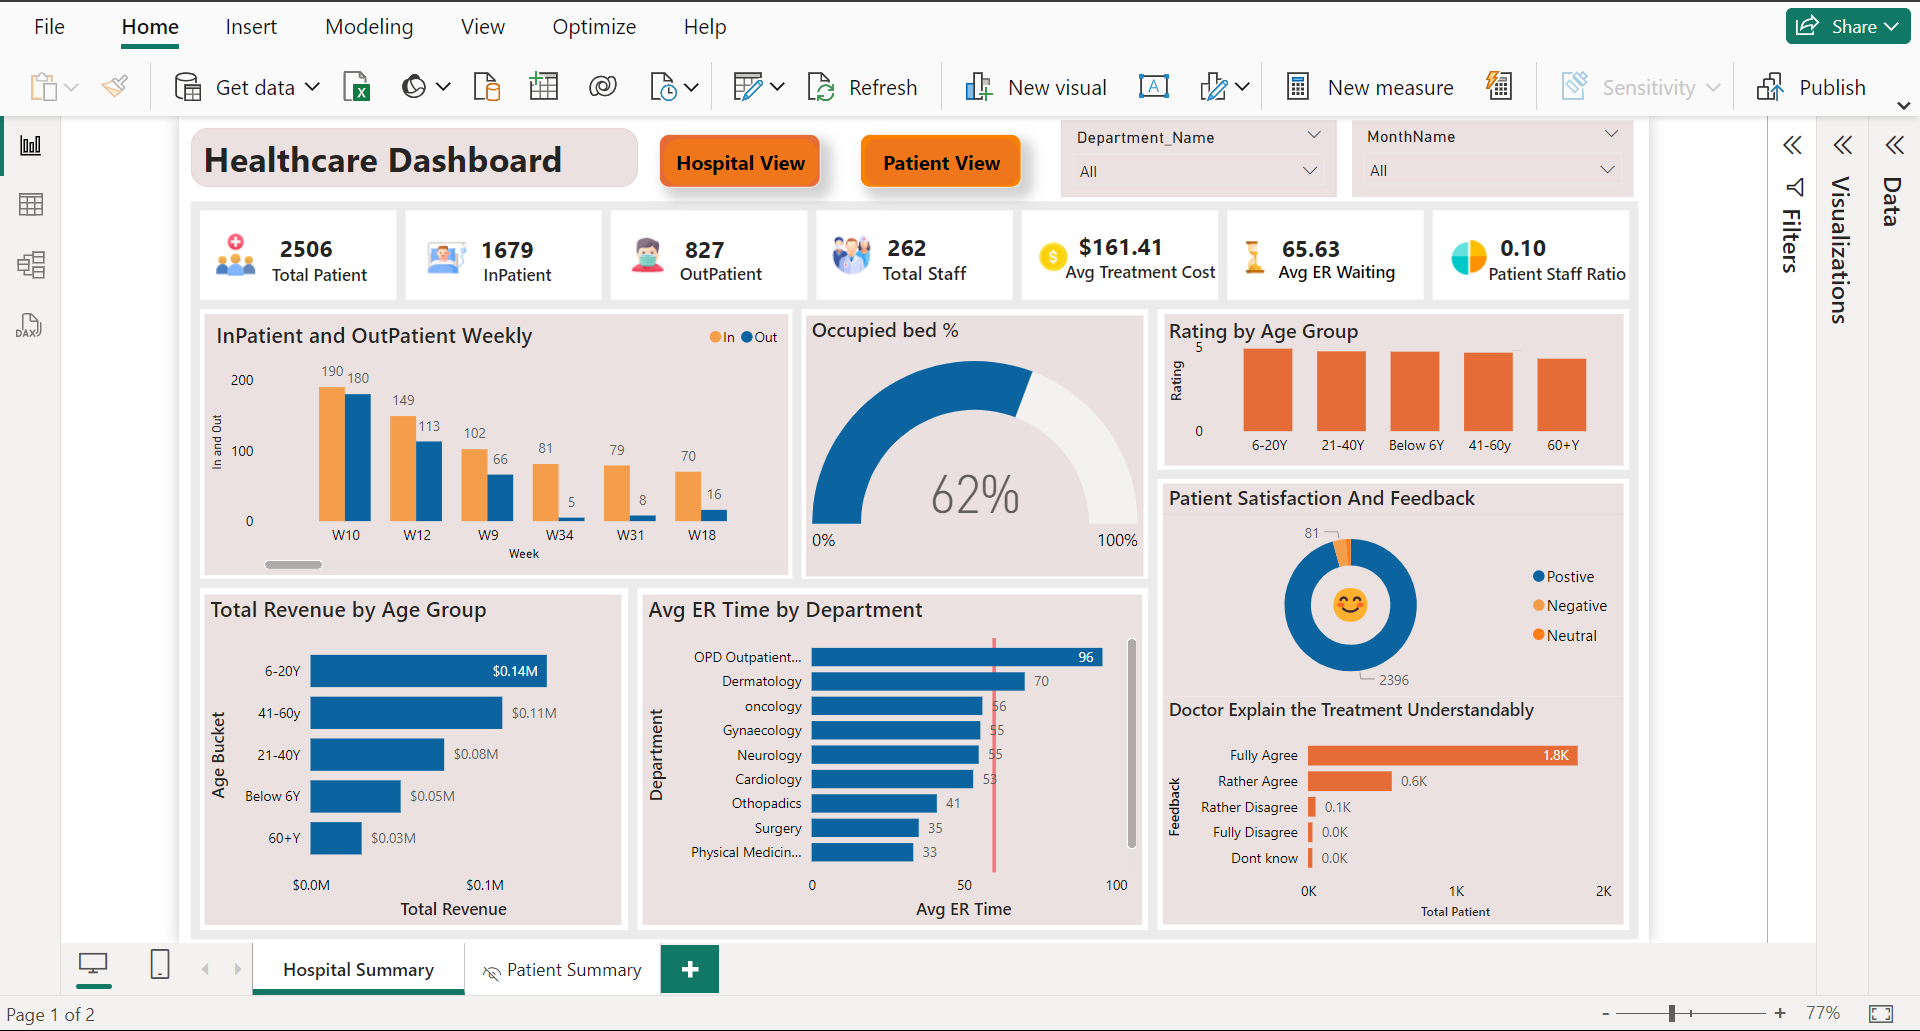

Layout of this report page (visuals, bound fields, positions):
{"tool":"powerbi","page":{"name":"Hospital Summary","canvas":[1280,720],"ordinal":0},"visuals":[{"type":"card","fields":{"Values":["Measure.Total Patient"]},"box":[68.1,98.4,84.8,36.3],"z":0},{"type":"card","fields":{"Values":["Measure.In Patient"]},"box":[247.2,100.3,76.9,34.3],"z":1000},{"type":"card","fields":{"Values":["Measure.Outpatient"]},"box":[427.1,98.9,60.4,35.7],"z":2000},{"type":"clusteredColumnChart","fields":{"Y":["Calendar_date.In Patient","Calendar_date.Outpatient"],"Category":["Calendar_date.WeekName"]},"box":[22.7,172.6,508.8,227.1],"z":3000},{"type":"clusteredBarChart","title":"Total Revenue by Age Group","fields":{"Y":["Measure.Total Revenue"],"Category":["Detail data dataset.Age Bucket"]},"box":[22.7,416.4,363,287.7],"z":4000},{"type":"barChart","fields":{"Y":["Measure.Avg ER Time"],"Category":["Department.Department_Name"]},"box":[404.3,416.4,435,287.7],"z":5000},{"type":"gauge","fields":{"Y":["Bed_Detail.Occupied bed %"]},"box":[546.6,174.1,293.8,227.1],"z":6000},{"type":"textbox","title":"Patient Satisfaction And Feedback ","box":[857,319.5,401.3,27.3],"z":7000},{"type":"donutChart","fields":{"Y":["Measure.Total Patient"],"Category":["Detail data dataset.FZ me"]},"box":[857,346.8,401.3,159],"z":8000},{"type":"barChart","title":"Doctor Explain the Treatment Understandably","fields":{"Y":["Measure.Total Patient"],"Category":["Detail data dataset.Feedback"]},"box":[857,505.7,401,198.4],"z":9000},{"type":"columnChart","fields":{"Y":["Measure.Rating"],"Category":["Detail data dataset.Age Bucket"]},"box":[858.6,172.6,400,131.7],"z":10000},{"type":"textbox","title":"Rating by Age Group","box":[857.1,175.7,317.1,34.3],"z":11000},{"type":"card","fields":{"Values":["Measure.Avg Treatment Cost"]},"box":[761.4,95.7,117.1,38.6],"z":12000},{"type":"card","fields":{"Values":["Bed_Detail.total Staff"]},"box":[594.3,98.6,78.6,35.7],"z":13000},{"type":"card","fields":{"Values":["Measure.Avg ER Time"]},"box":[940,101.4,92.9,28.6],"z":14000},{"type":"card","fields":{"Values":["Bed_Detail.Patient Staff Ratio"]},"box":[1135.7,97.1,70,38.6],"z":15000},{"type":"slicer","fields":{"Values":["Calendar_date.MonthName"]},"box":[1022.1,4.5,245,66.6],"z":16000},{"type":"slicer","fields":{"Values":["Department.Department_Name"]},"box":[767.7,4.5,240,66.6],"z":17000},{"type":"card","fields":{"Values":["Bed_Detail.emzz"]},"box":[988.8,398.2,62.1,53],"z":18000},{"type":"textbox","title":"Total Patient","box":[75.5,127.7,104.4,19.2],"z":19000},{"type":"textbox","title":"InPatient","box":[259.6,127.7,104.4,19.2],"z":20000},{"type":"textbox","title":"OutPatient","box":[431.4,127.1,85.7,20],"z":21000},{"type":"textbox","title":"Total Staff","box":[607,125,87.9,22],"z":22000},{"type":"textbox","title":"Avg Treatment Cost","box":[767.1,125.7,148.6,20],"z":23000},{"type":"textbox","title":"Avg ER Waiting ","box":[952.9,125.7,124.3,21.4],"z":24000},{"type":"textbox","title":"Patient Staff Ratio","box":[1135.7,127.1,134.3,21.4],"z":25000},{"type":"textbox","title":"InPatient and OutPatient Weekly","box":[27.1,177.1,322.9,28.6],"z":26000},{"type":"textbox","title":"Healthcare Dashboard","box":[10.6,10.6,389.2,51.5],"z":27000},{"type":"actionButton","box":[593.6,15.1,140.8,46.9],"z":28000},{"type":"actionButton","box":[417.9,15.1,140.8,46.9],"z":29000}]}

Visuals, with their boxes on the page's 1280x720 design canvas (x1, y1, x2, y2). These are canvas units, not pixel positions in the 1920x1031 screenshot, which may show the page scaled, cropped or inside an application window:
card - Measure.Total Patient: region(68, 98, 153, 135)
card - Measure.In Patient: region(247, 100, 324, 135)
card - Measure.Outpatient: region(427, 99, 488, 135)
clusteredColumnChart - Calendar_date.In Patient x Calendar_date.Outpatient: region(23, 173, 532, 400)
"Total Revenue by Age Group" clusteredBarChart: region(23, 416, 386, 704)
barChart - Measure.Avg ER Time x Department.Department_Name: region(404, 416, 839, 704)
gauge - Bed_Detail.Occupied bed %: region(547, 174, 840, 401)
"Patient Satisfaction And Feedback " textbox: region(857, 320, 1258, 347)
donutChart - Measure.Total Patient x Detail data dataset.FZ me: region(857, 347, 1258, 506)
"Doctor Explain the Treatment Understandably" barChart: region(857, 506, 1258, 704)
columnChart - Measure.Rating x Detail data dataset.Age Bucket: region(859, 173, 1259, 304)
"Rating by Age Group" textbox: region(857, 176, 1174, 210)
card - Measure.Avg Treatment Cost: region(761, 96, 878, 134)
card - Bed_Detail.total Staff: region(594, 99, 673, 134)
card - Measure.Avg ER Time: region(940, 101, 1033, 130)
card - Bed_Detail.Patient Staff Ratio: region(1136, 97, 1206, 136)
slicer - Calendar_date.MonthName: region(1022, 4, 1267, 71)
slicer - Department.Department_Name: region(768, 4, 1008, 71)
card - Bed_Detail.emzz: region(989, 398, 1051, 451)
"Total Patient" textbox: region(76, 128, 180, 147)
"InPatient" textbox: region(260, 128, 364, 147)
"OutPatient" textbox: region(431, 127, 517, 147)
"Total Staff" textbox: region(607, 125, 695, 147)
"Avg Treatment Cost" textbox: region(767, 126, 916, 146)
"Avg ER Waiting " textbox: region(953, 126, 1077, 147)
"Patient Staff Ratio" textbox: region(1136, 127, 1270, 148)
"InPatient and OutPatient Weekly" textbox: region(27, 177, 350, 206)
"Healthcare Dashboard" textbox: region(11, 11, 400, 62)
actionButton: region(594, 15, 734, 62)
actionButton: region(418, 15, 559, 62)
